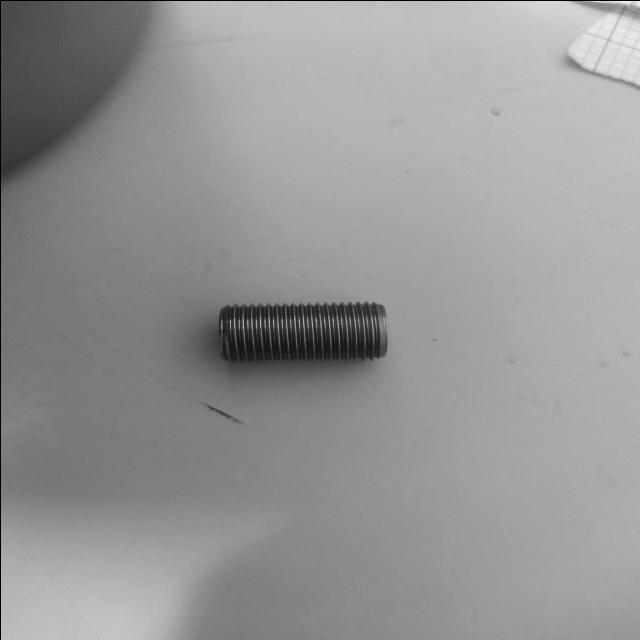Normal: (218, 300, 387, 364)
